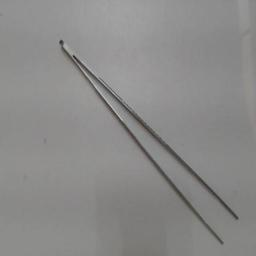DeBakey Dissector: (54, 30, 246, 252)
